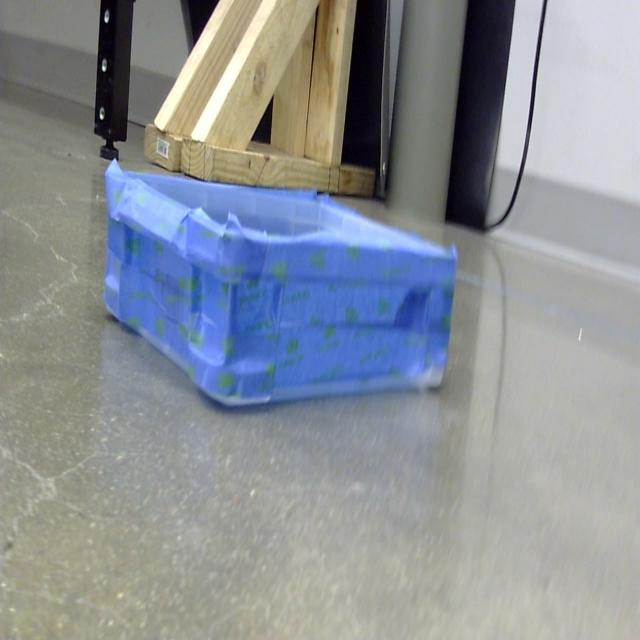bucket: (102, 162, 458, 412)
